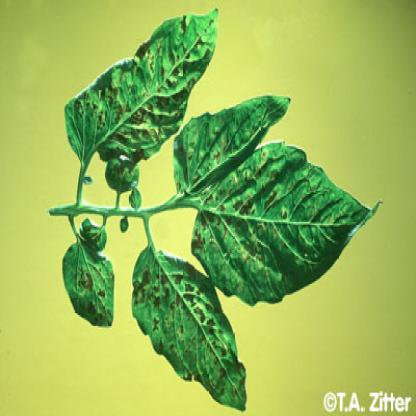Tomato leaf bacterial spot: (182, 132, 382, 296), (67, 8, 225, 183), (126, 244, 252, 411), (152, 93, 310, 192), (62, 236, 120, 332)
